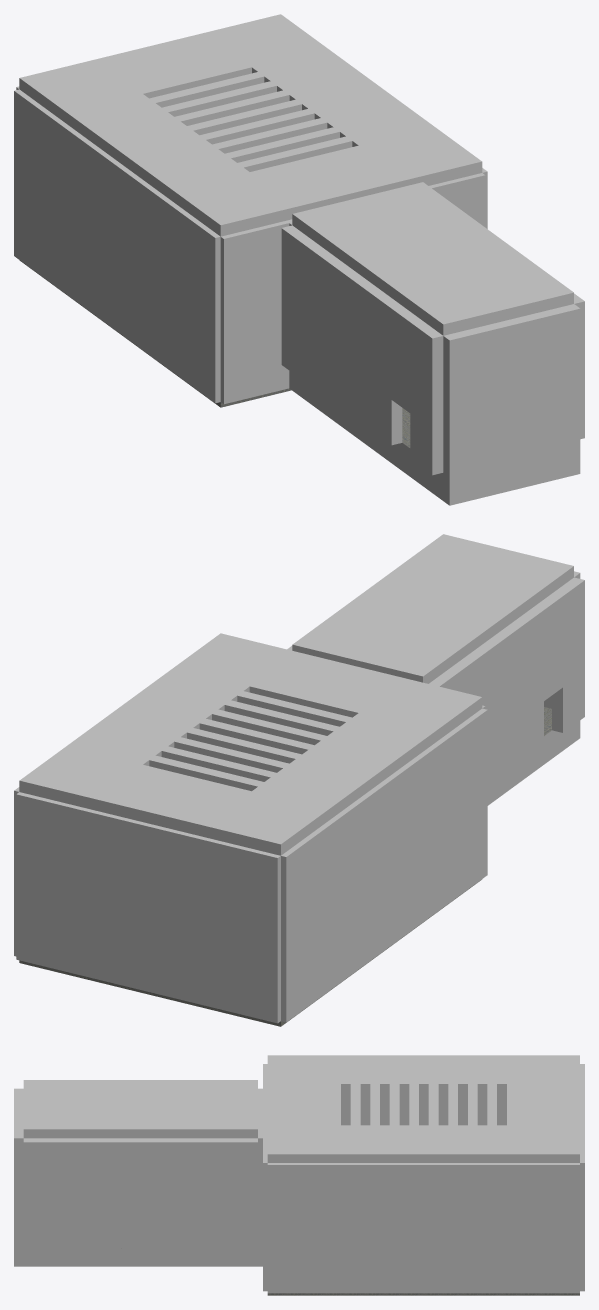
File: indoortest.obj
3 renders of one model, top to bottom at view 1: azimuth 30°, elevation 25°; view 2: azimuth 150°, elevation 25°; view 3: azimuth 270°, elevation 25°, orthographic. The views are drawn at different scales.
Visible parts, largest first — view 1: entity0_brush38, entity0_brush1, entity0_brush2, entity0_brush47, entity0_brush13, entity0_brush46, entity0_brush41, entity0_brush49, entity0_brush48, entity0_brush14, entity0_brush8, entity0_brush15 (+10 smaller); view 2: entity0_brush39, entity0_brush38, entity0_brush2, entity0_brush47, entity0_brush46, entity0_brush13, entity0_brush48, entity0_brush49, entity0_brush14, entity0_brush15, entity0_brush8, entity0_brush51 (+8 smaller); view 3: entity0_brush37, entity0_brush0, entity0_brush2, entity0_brush46, entity0_brush47, entity0_brush10, entity0_brush49, entity0_brush38, entity0_brush48, entity0_brush1, entity0_brush39, entity0_brush35 (+10 smaller).
Part boxes in pixels (bbox=[...]): entity0_brush38: bbox=[14, 89, 220, 403]; entity0_brush1: bbox=[443, 304, 580, 505]; entity0_brush2: bbox=[292, 182, 573, 335]; entity0_brush47: bbox=[19, 59, 296, 236]; entity0_brush13: bbox=[281, 225, 402, 445]; entity0_brush46: bbox=[205, 14, 482, 185]; entity0_brush41: bbox=[220, 221, 289, 404]; entity0_brush49: bbox=[250, 145, 405, 212]; entity0_brush48: bbox=[96, 33, 251, 98]; entity0_brush14: bbox=[410, 320, 443, 475]; entity0_brush8: bbox=[292, 373, 443, 500]; entity0_brush15: bbox=[391, 306, 420, 412]; entity0_brush39: bbox=[16, 792, 280, 1023]; entity0_brush38: bbox=[281, 708, 487, 1022]; entity0_brush2: bbox=[292, 534, 573, 683]; entity0_brush47: bbox=[204, 678, 482, 855]; entity0_brush46: bbox=[19, 633, 296, 810]; entity0_brush13: bbox=[429, 607, 543, 787]; entity0_brush48: bbox=[95, 765, 251, 836]; entity0_brush49: bbox=[249, 652, 405, 717]; entity0_brush14: bbox=[552, 577, 584, 732]; entity0_brush15: bbox=[533, 593, 562, 700]; entity0_brush8: bbox=[487, 725, 573, 805]; entity0_brush51: bbox=[161, 746, 276, 781]; entity0_brush37: bbox=[267, 1163, 579, 1293]; entity0_brush0: bbox=[23, 1138, 257, 1248]; entity0_brush2: bbox=[23, 1080, 257, 1138]; entity0_brush46: bbox=[267, 1125, 579, 1162]; entity0_brush47: bbox=[267, 1055, 579, 1092]; entity0_brush10: bbox=[23, 1249, 257, 1266]; entity0_brush49: bbox=[267, 1084, 340, 1125]; entity0_brush38: bbox=[341, 1093, 506, 1125]; entity0_brush48: bbox=[507, 1084, 579, 1125]; entity0_brush1: bbox=[14, 1088, 23, 1266]; entity0_brush39: bbox=[580, 1064, 584, 1291]; entity0_brush35: bbox=[267, 1293, 579, 1295].
Bounding box in the file's own units: 800 × 512 × 1872.
